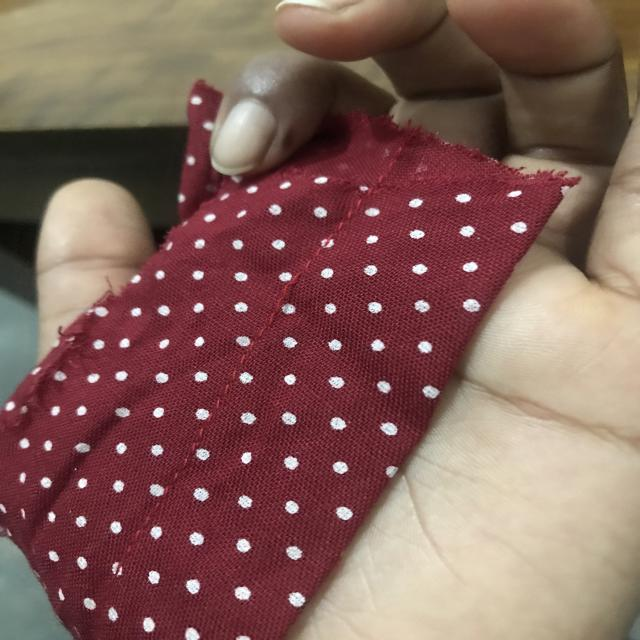skip: (263, 264, 311, 310)
